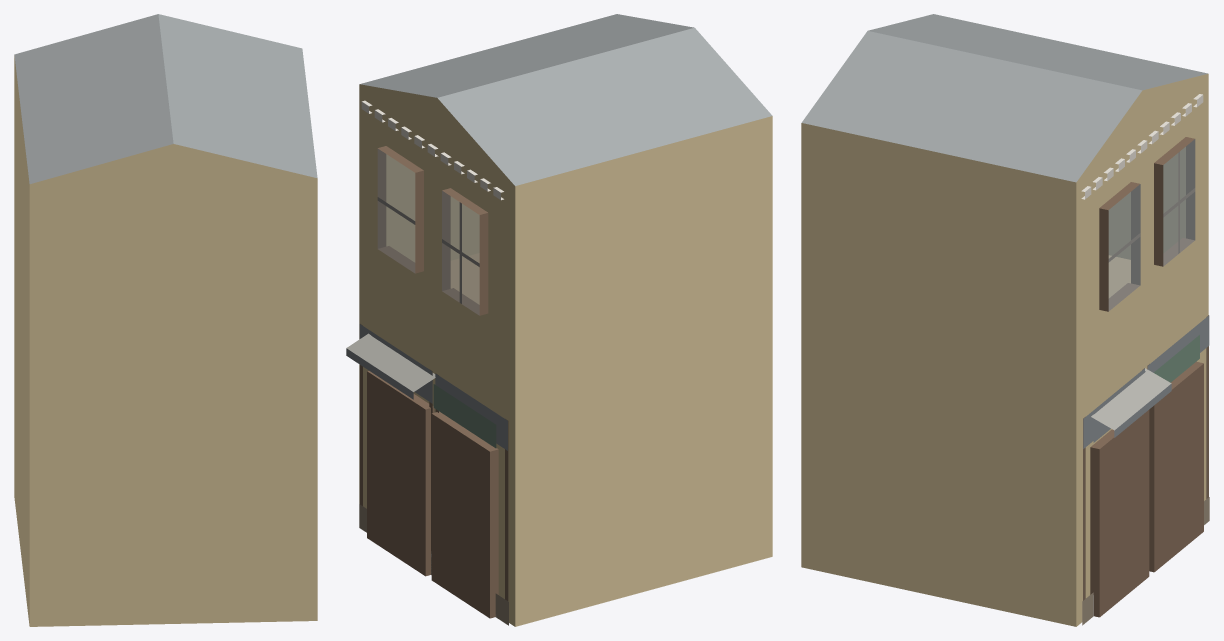
File: N-40-42.north_two_storey.glb
3 renders of one model, left to right at view 1: azimuth 30°, elevation 25°; view 2: azimuth 150°, elevation 25°; view 3: azimuth 270°, elevation 25°, orthographic.
Visible parts, largest first — view 1: N-40-42.north_two_storey; view 2: N-40-42.north_two_storey; view 3: N-40-42.north_two_storey.
Boxes of the visible parts, left/top/right/bottom form: N-40-42.north_two_storey: left=14, top=14, right=317, bottom=626; N-40-42.north_two_storey: left=346, top=14, right=772, bottom=626; N-40-42.north_two_storey: left=801, top=14, right=1209, bottom=626.
Bounding box in the file's own units: 5.69 × 7.59 × 5.82.
